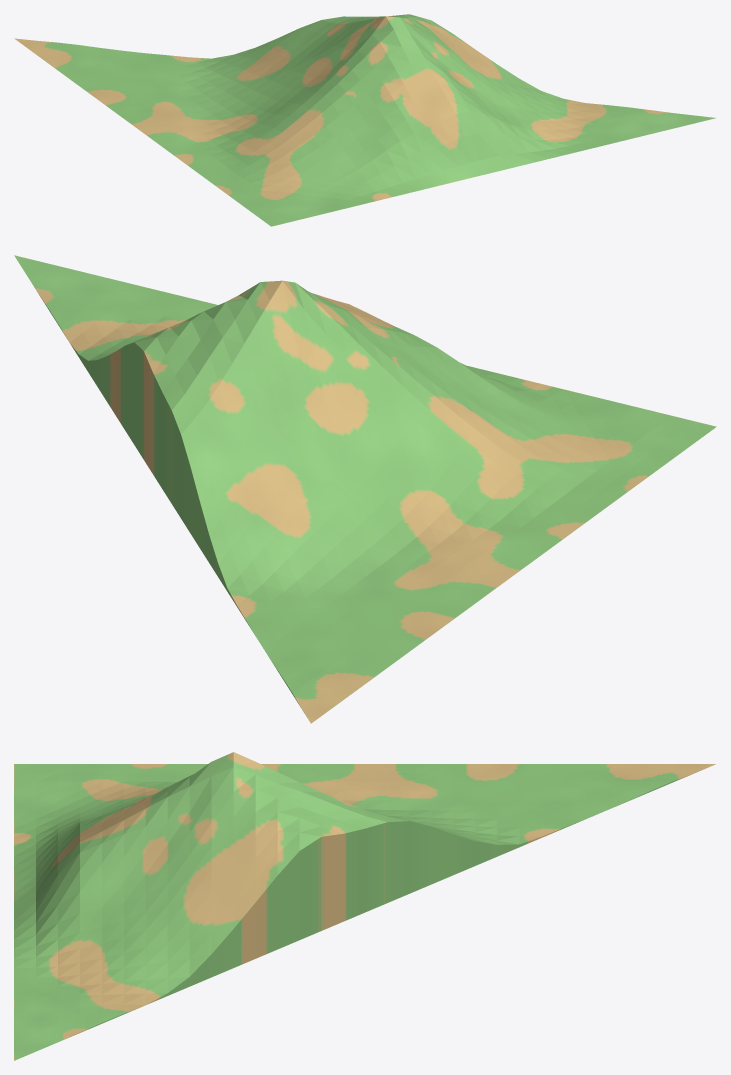
Rendered from Grass_Hills_11_NW.obj.
3 renders of one model, top to bottom at view 1: azimuth 30°, elevation 25°; view 2: azimuth 150°, elevation 25°; view 3: azimuth 270°, elevation 25°, orthographic. The views are drawn at different scales.
Size of the model in its own units: 10 by 2.23 by 10.
Materials: 1 (1 with a texture image).
